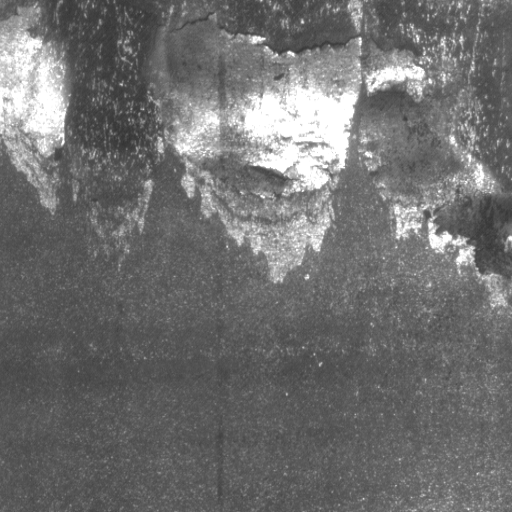qiaopi: (151, 8, 511, 306)
